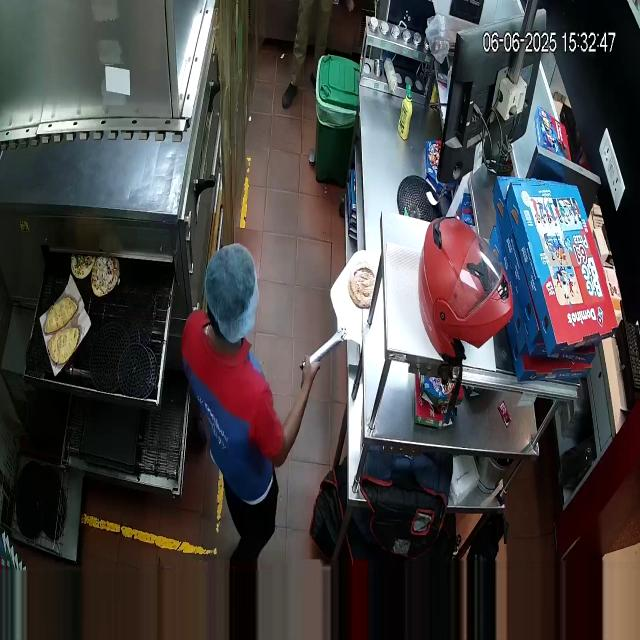helmet: (415, 215, 514, 368)
